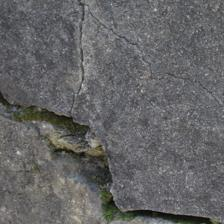Crack: (64, 62, 158, 174), (38, 42, 68, 173), (18, 79, 77, 141)
